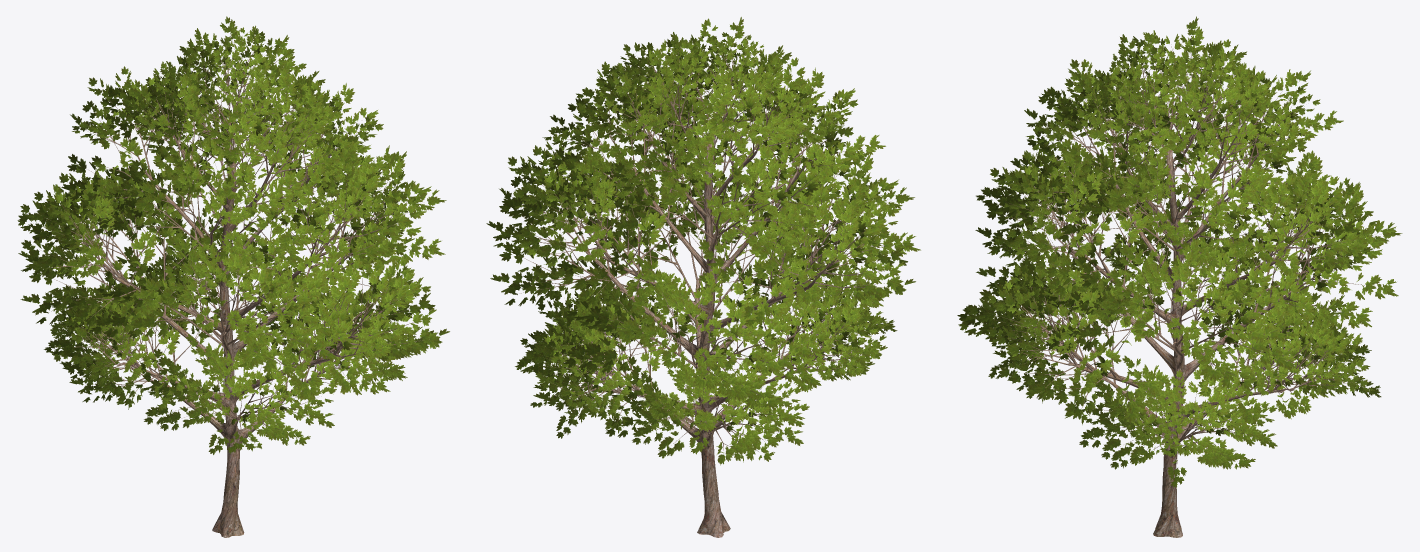
File: Maple1.obj
3 renders of one model, left to right at view 1: azimuth 30°, elevation 25°; view 2: azimuth 150°, elevation 25°; view 3: azimuth 270°, elevation 25°, orthographic. The views are drawn at different scales.
Parts seen in each view (by area): view 1: leaf maple, bark02; view 2: leaf maple, bark02; view 3: leaf maple, bark02.
Boxes of the visible parts, <box> form: leaf maple: <box>17,16,449,454</box>; bark02: <box>39,41,424,537</box>; leaf maple: <box>486,17,920,465</box>; bark02: <box>508,32,893,537</box>; leaf maple: <box>957,16,1402,487</box>; bark02: <box>993,46,1375,537</box>.
Bounding box in the file's own units: 703 × 819 × 678.
Materials: 2 (2 with a texture image).
